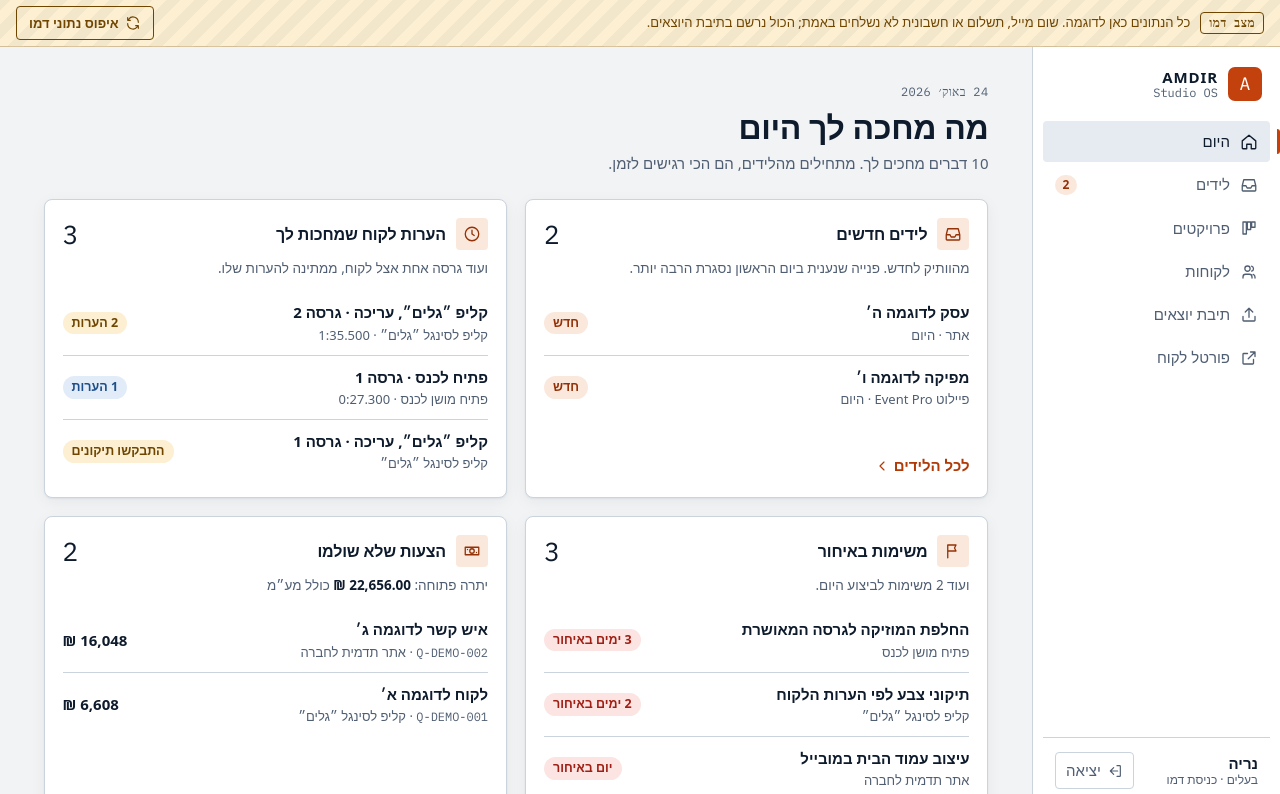
Test: dashboard › one-click demo reset restores the seed
The width and height of the screenshot is (1280, 794).
Check: the element "לידים חדשים" is shown, box [525, 199, 988, 498]
Check: the text "פונה לדוגמה ד׳" is not shown
Click the button "איפוס נתוני דמו": (85, 23) [16, 6, 154, 40]
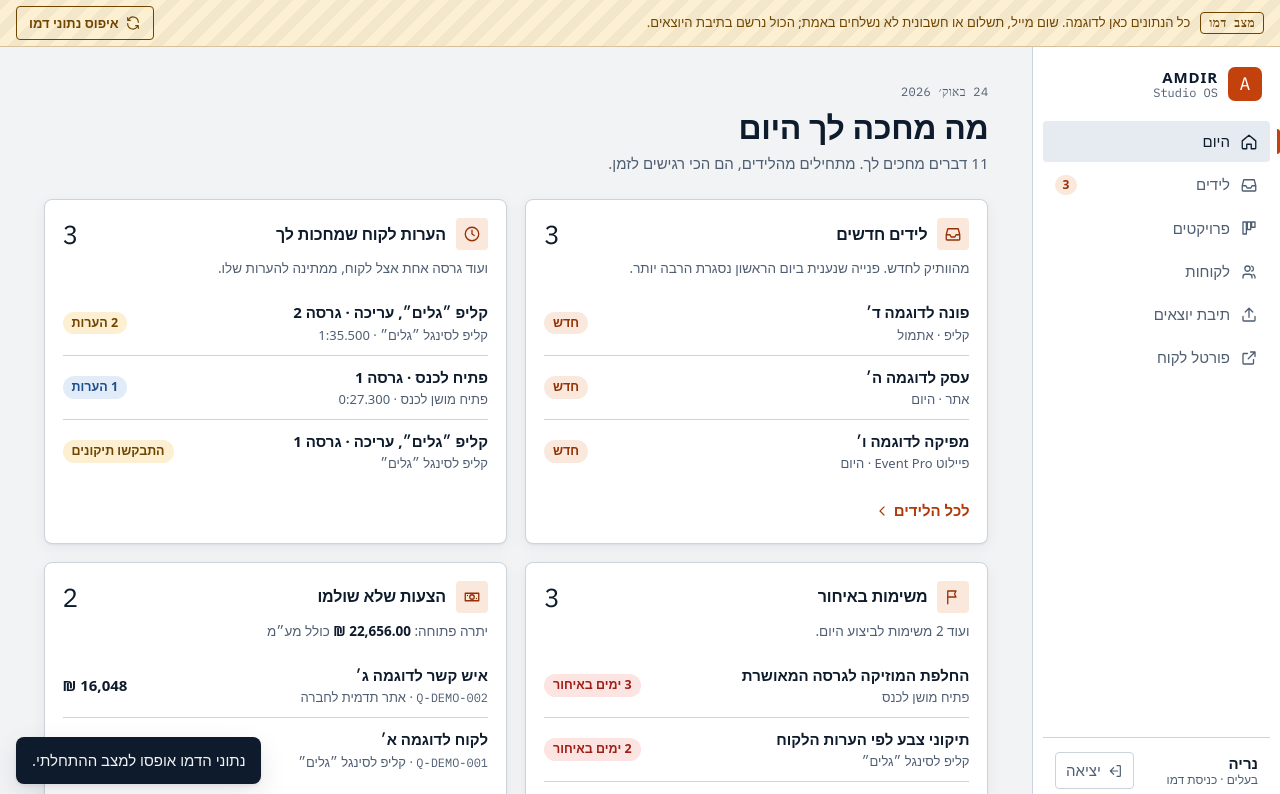
Check: the text "פונה לדוגמה ד׳" is shown, box [866, 302, 970, 322]
Check: the text "נתוני הדמו אופסו למצב ההתחלתי." is shown, box [16, 737, 262, 784]
